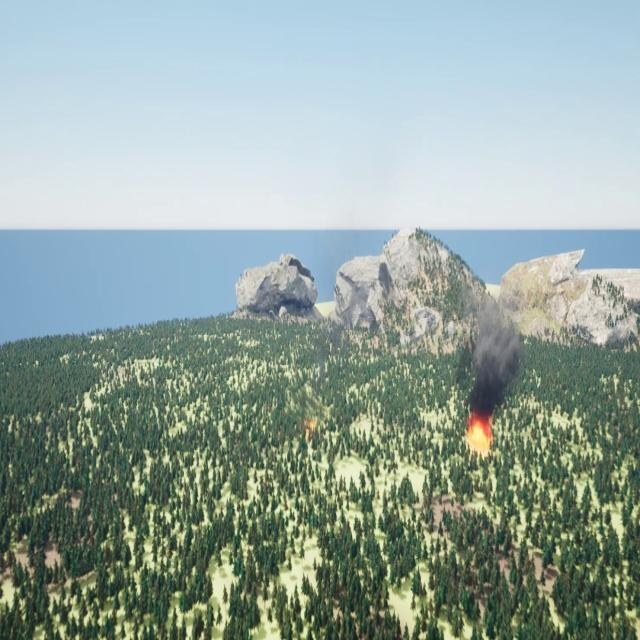fire: (464, 416, 492, 449), (300, 416, 314, 444)
smoke: (470, 303, 519, 408)
